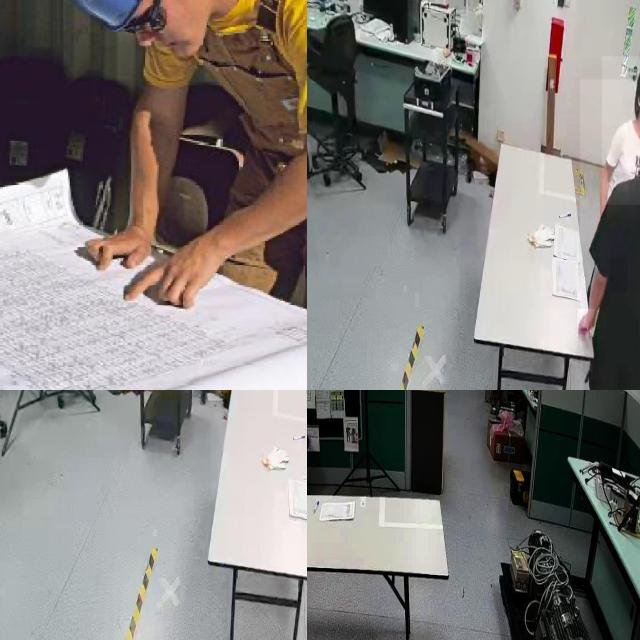face_nomask: (138, 10, 208, 58)
hand_noglove: (124, 230, 224, 307), (90, 224, 152, 268), (577, 309, 595, 337)
person: (580, 79, 640, 390), (601, 56, 640, 204)
